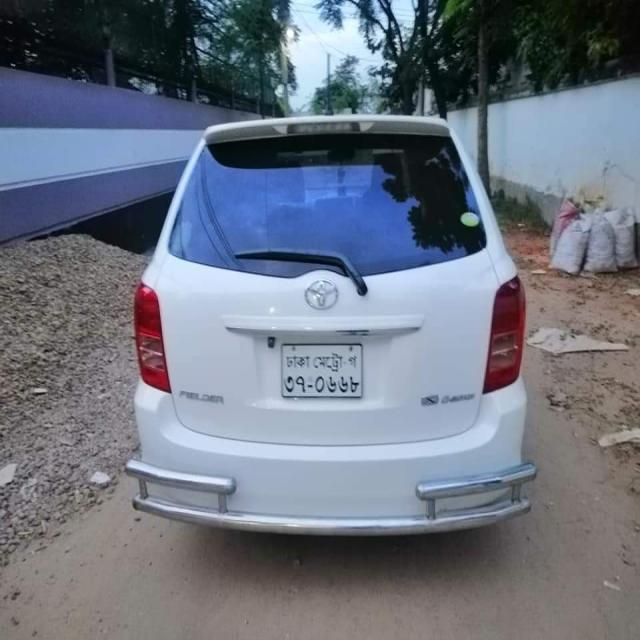white: (132, 103, 584, 529)
